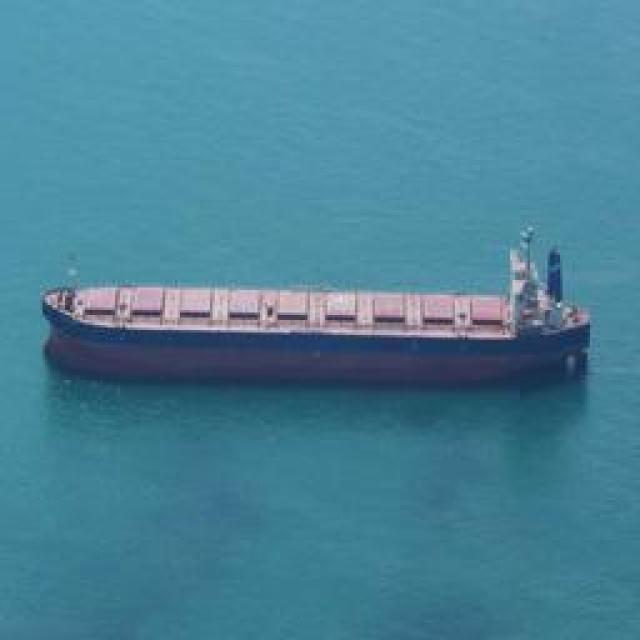ship: (49, 244, 596, 388)
